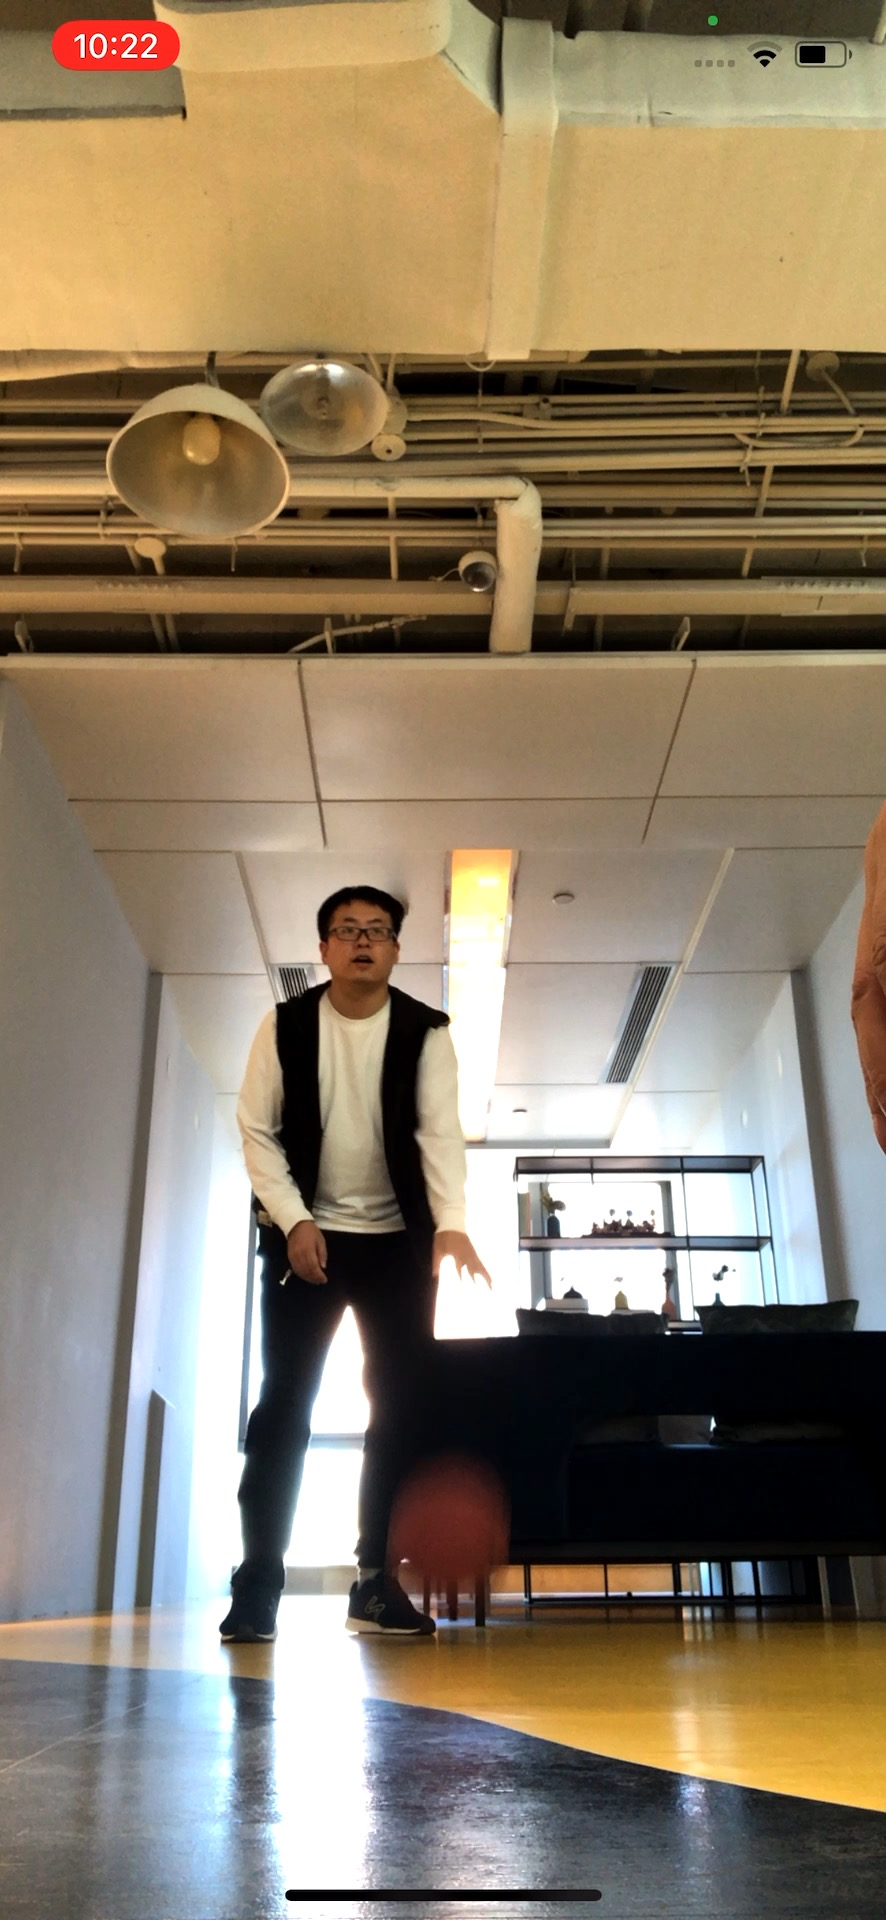ball: (382, 1476, 510, 1607)
